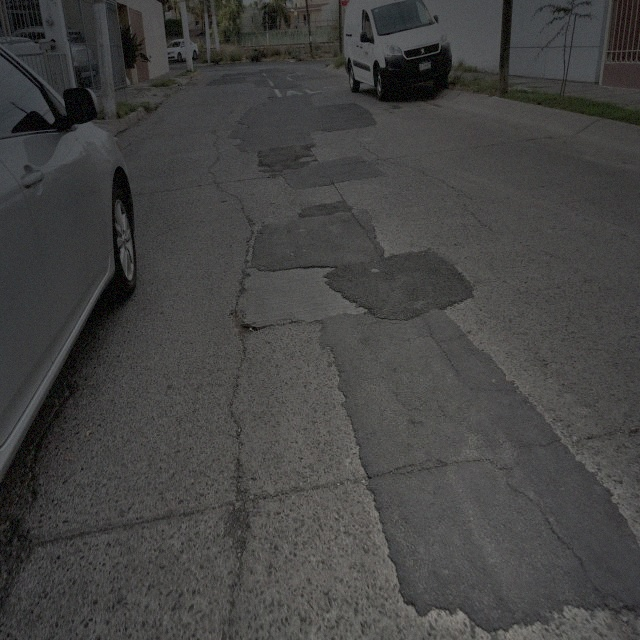pothole: (1, 497, 32, 595), (223, 490, 249, 556), (228, 310, 255, 332)
